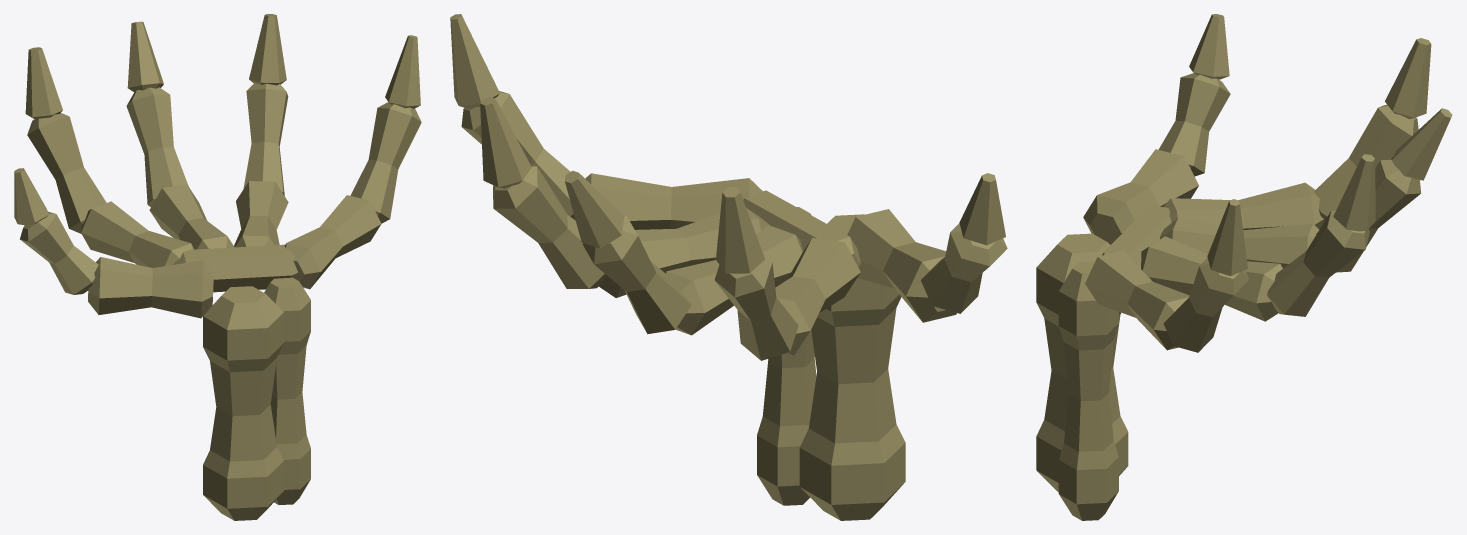
File: SmallLess_SF_baigu1.fbx
3 views of the same model, side by side, from view 1: azimuth 30°, elevation 25°; view 2: azimuth 150°, elevation 25°; view 3: azimuth 270°, elevation 25° (orthographic). The views are drawn at different scales.
Parts seen in each view (by area): view 1: SF_baigu1; view 2: SF_baigu1; view 3: SF_baigu1.
Part boxes in pixels (left/top/right/bottom): SF_baigu1: left=14, top=14, right=421, bottom=520; SF_baigu1: left=450, top=14, right=1007, bottom=520; SF_baigu1: left=1036, top=14, right=1452, bottom=520.
Bounding box in the file's own units: 202 × 173 × 156.
